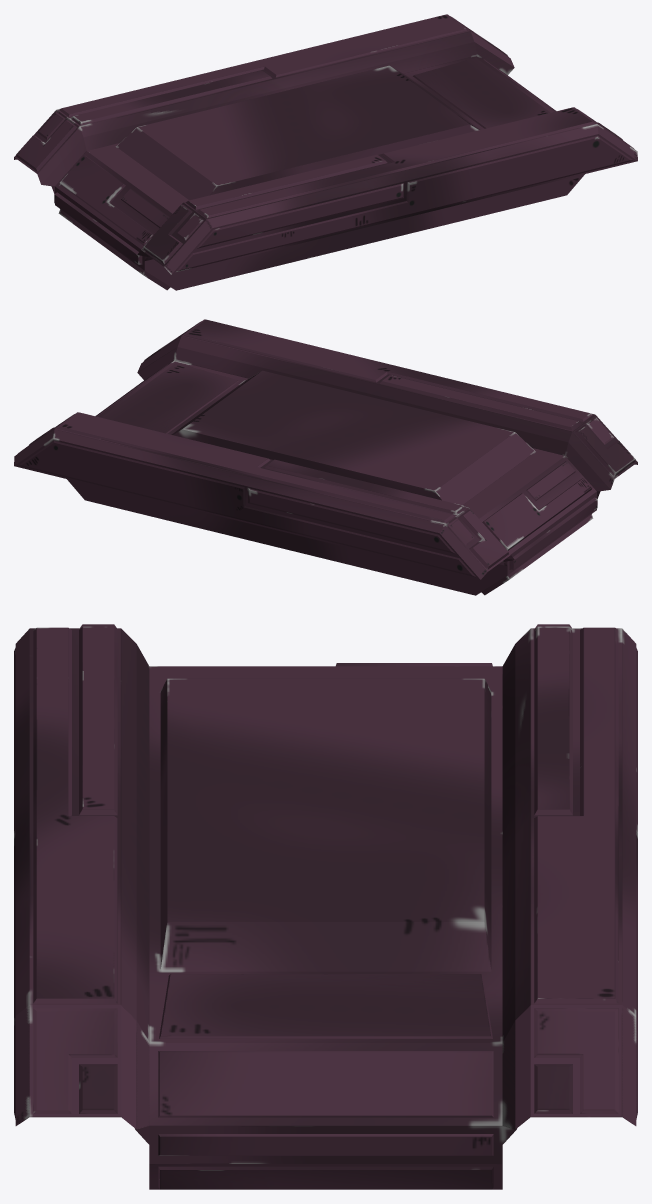
File: StylizedTankBody.fbx
3 renders of one model, top to bottom at view 1: azimuth 30°, elevation 25°; view 2: azimuth 150°, elevation 25°; view 3: azimuth 270°, elevation 25°, orthographic. The views are drawn at different scales.
Parts seen in each view (by area): view 1: TankBody; view 2: TankBody; view 3: TankBody.
Boxes of the visible parts, x1,y1,x2,y2 form: TankBody: [14, 14, 637, 290]; TankBody: [14, 319, 637, 595]; TankBody: [14, 624, 637, 1189].
Size of the model in its own units: 205 by 39.67 by 118.
